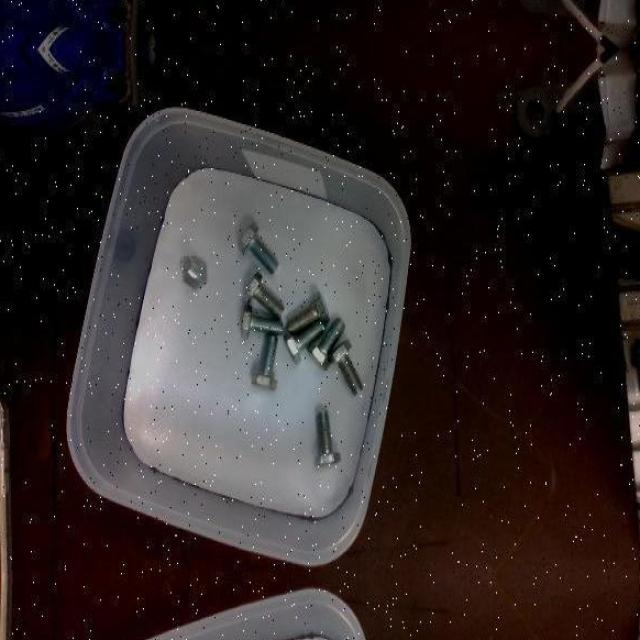screw: (238, 221, 280, 274), (326, 339, 363, 394), (244, 272, 286, 320), (307, 318, 345, 370), (287, 290, 330, 334), (284, 320, 326, 364), (251, 334, 278, 391), (241, 304, 284, 338), (316, 410, 342, 466), (179, 255, 207, 290)
